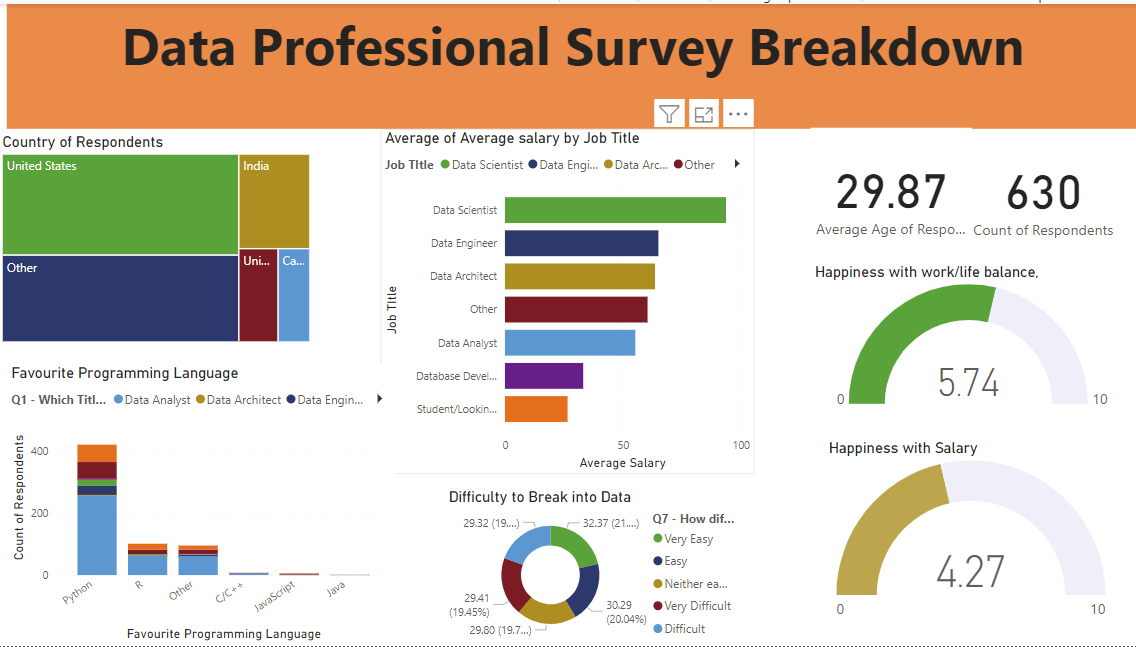

What the dashboard file says about the page in this screenshot:
{"tool":"powerbi","page":{"name":"Page 1","canvas":[1280,720],"ordinal":0},"visuals":[{"type":"textbox","box":[9.6,0,1270.7,140],"z":0},{"type":"card","fields":{"Values":["CountNonNull(Data Professional Survey.Unique ID)"]},"box":[1071.7,140,203.1,149.6],"z":1000},{"type":"card","fields":{"Values":["Avg(Data Professional Survey.Q10 - Current Age)"]},"box":[911.5,138.8,180.9,150],"z":2000},{"type":"barChart","title":"Average of Average salary by Job Title","fields":{"Category":["Data Professional Survey.Q1 - Which Title Best Fits your Current Role?.1.1"],"Y":["Avg(Data Professional Survey.Average salary)"],"Series":["Data Professional Survey.Q1 - Which Title Best Fits your Current Role?.1.1"]},"box":[429.1,140.2,419.3,387],"z":3000},{"type":"columnChart","title":"Favourite Programming Language","fields":{"Category":["Data Professional Survey.Q5 - Favorite Programming Language.1"],"Series":["Data Professional Survey.Q1 - Which Title Best Fits your Current Role?.1.1"],"Y":["CountNonNull(Data Professional Survey.Unique ID)"]},"box":[9.8,403.9,436.1,315.5],"z":4000},{"type":"gauge","title":"Happiness with Salary","fields":{"Y":["Avg(Data Professional Survey.Q6 - How Happy are you in your Current Position with the following? (Salary))"],"MinValue":["Min(Data Professional Survey.Q6 - How Happy are you in your Current Position with the following? (Salary))1"],"MaxValue":["Max(Data Professional Survey.Q6 - How Happy are you in your Current Position with the following? (Salary))2"]},"box":[926.9,488,329.5,211.7],"z":5000},{"type":"gauge","title":"Happiness with work/life balance,","fields":{"Y":["Avg(Data Professional Survey.Q6 - How Happy are you in your Current Position with the following? (Work/Life Balance))"],"MinValue":["Min(Data Professional Survey.Q6 - How Happy are you in your Current Position with the following? (Work/Life Balance))1"],"MaxValue":["Max(Data Professional Survey.Q6 - How Happy are you in your Current Position with the following? (Work/Life Balance))2"]},"box":[911.5,290.3,363.2,168.3],"z":6000},{"type":"treemap","title":"Country of Respondents","fields":{"Group":["Data Professional Survey.Q11 - Which Country do you live in?.1"],"Values":["CountNonNull(Data Professional Survey.Q11 - Which Country do you live in?.1)"]},"box":[0,144.4,354.8,239.8],"z":7000},{"type":"donutChart","title":"Difficulty to Break into Data","fields":{"Category":["Data Professional Survey.Q7 - How difficult was it for you to break into Data?"],"Y":["Avg(Data Professional Survey.Q10 - Current Age)"]},"box":[500.6,542.7,336.5,176.7],"z":8000}]}

Visuals, with their boxes in screenshot pixels (x1, y1, x2, y2), scaled from the page's 1280x720 canvas onto the 1136x647 screenshot:
textbox: box(9, 0, 1135, 126)
card - CountNonNull(Data Professional Survey.Unique ID): box(951, 126, 1131, 260)
card - Avg(Data Professional Survey.Q10 - Current Age): box(809, 125, 970, 260)
"Average of Average salary by Job Title" barChart: box(381, 126, 753, 474)
"Favourite Programming Language" columnChart: box(9, 363, 396, 646)
"Happiness with Salary" gauge: box(823, 439, 1115, 629)
"Happiness with work/life balance," gauge: box(809, 261, 1131, 412)
"Country of Respondents" treemap: box(0, 130, 315, 345)
"Difficulty to Break into Data" donutChart: box(444, 488, 743, 646)
